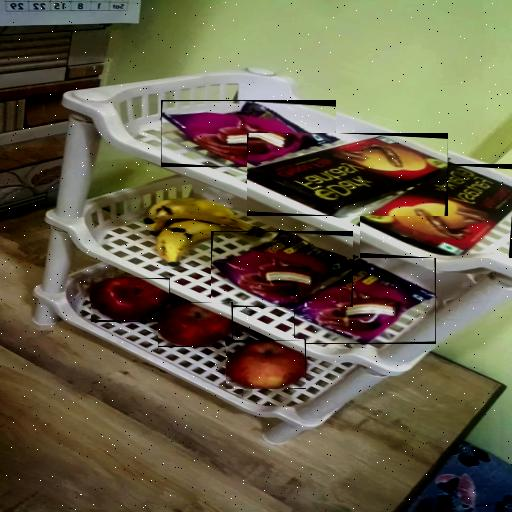Apple: (226, 340, 306, 389), (91, 278, 170, 322), (158, 302, 233, 347)
Choco Fills: (247, 133, 448, 216), (360, 164, 512, 258)
Choco Pie: (294, 258, 436, 344), (161, 100, 336, 167), (211, 231, 353, 307)
